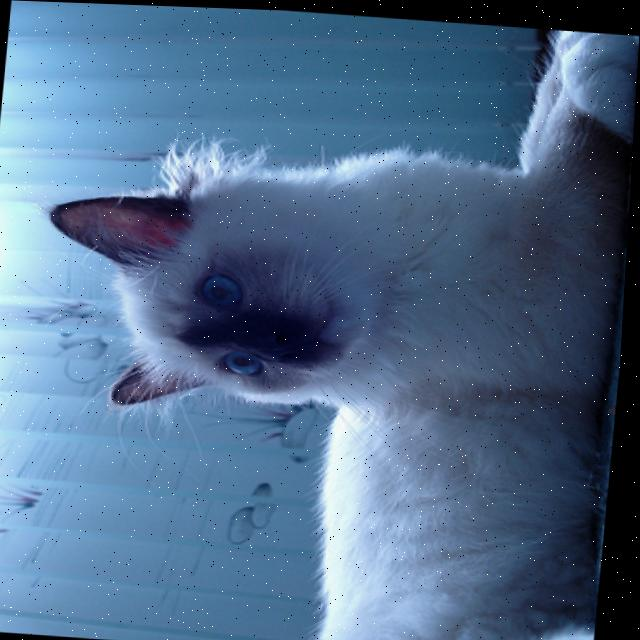Birman: (14, 1, 640, 640)
